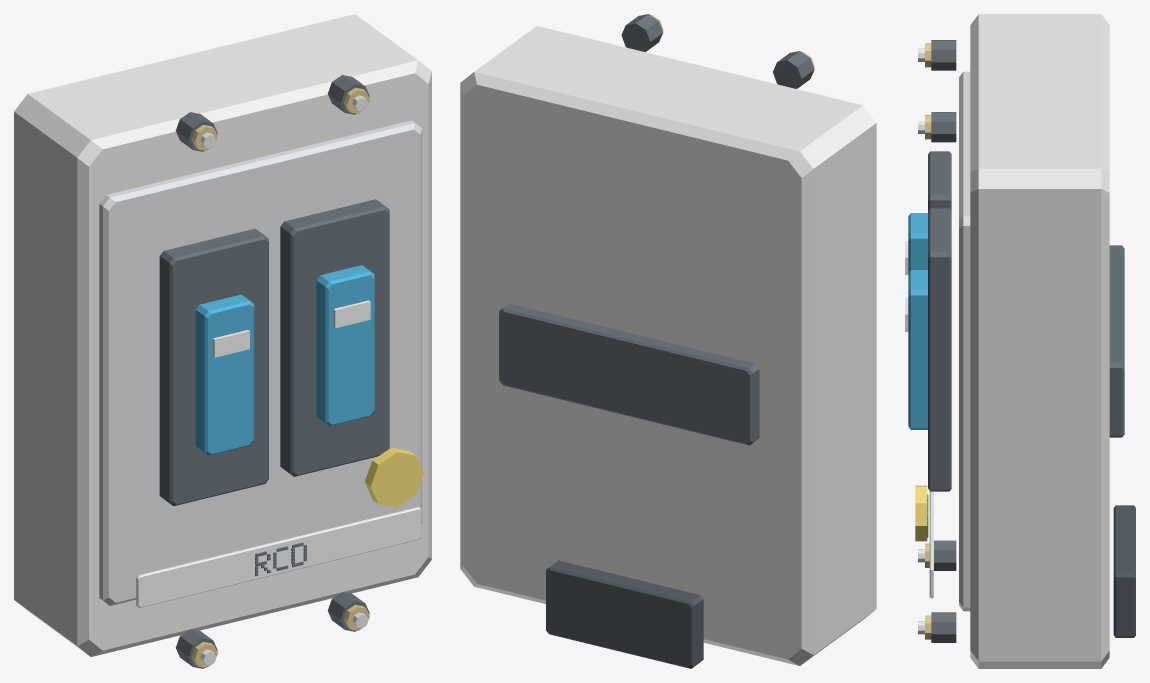
Rendered from differentialBreaker.glb.
3 views of the same model, side by side, from view 1: azimuth 30°, elevation 25°; view 2: azimuth 150°, elevation 25°; view 3: azimuth 270°, elevation 25° (orthographic). The views are drawn at different scales.
Parts seen in each view (by area): view 1: differentialBreaker-board; view 2: differentialBreaker-board; view 3: differentialBreaker-board.
Part boxes in pixels (<box>): differentialBreaker-board: <box>14,14,431,668</box>; differentialBreaker-board: <box>460,14,876,668</box>; differentialBreaker-board: <box>905,14,1135,668</box>.
Size of the model in its own units: 2.33 by 3.44 by 1.36.
